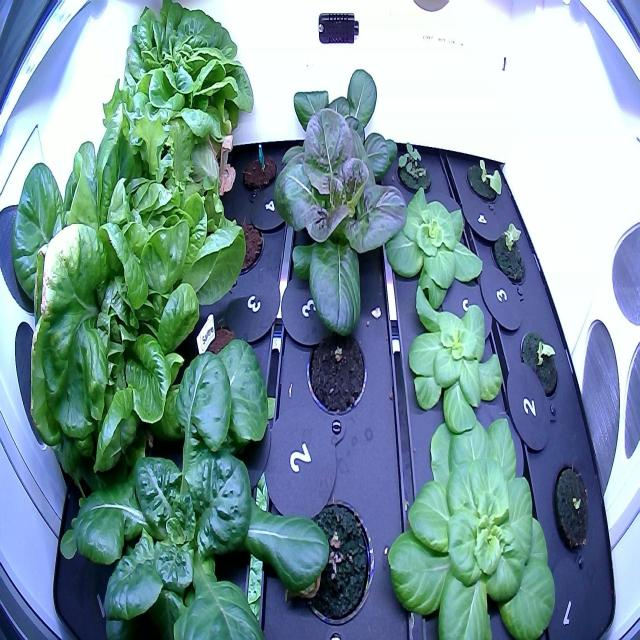Ready: (3, 122, 246, 468), (88, 0, 257, 201)
germination: (286, 484, 379, 629), (298, 317, 371, 424), (549, 455, 598, 559)
pod: (208, 210, 268, 294), (227, 138, 279, 205)
young: (51, 321, 332, 638), (376, 404, 560, 604), (273, 106, 412, 346), (390, 273, 505, 443), (275, 51, 405, 190), (378, 177, 489, 326), (514, 321, 562, 403), (488, 215, 528, 289), (462, 149, 507, 207)
